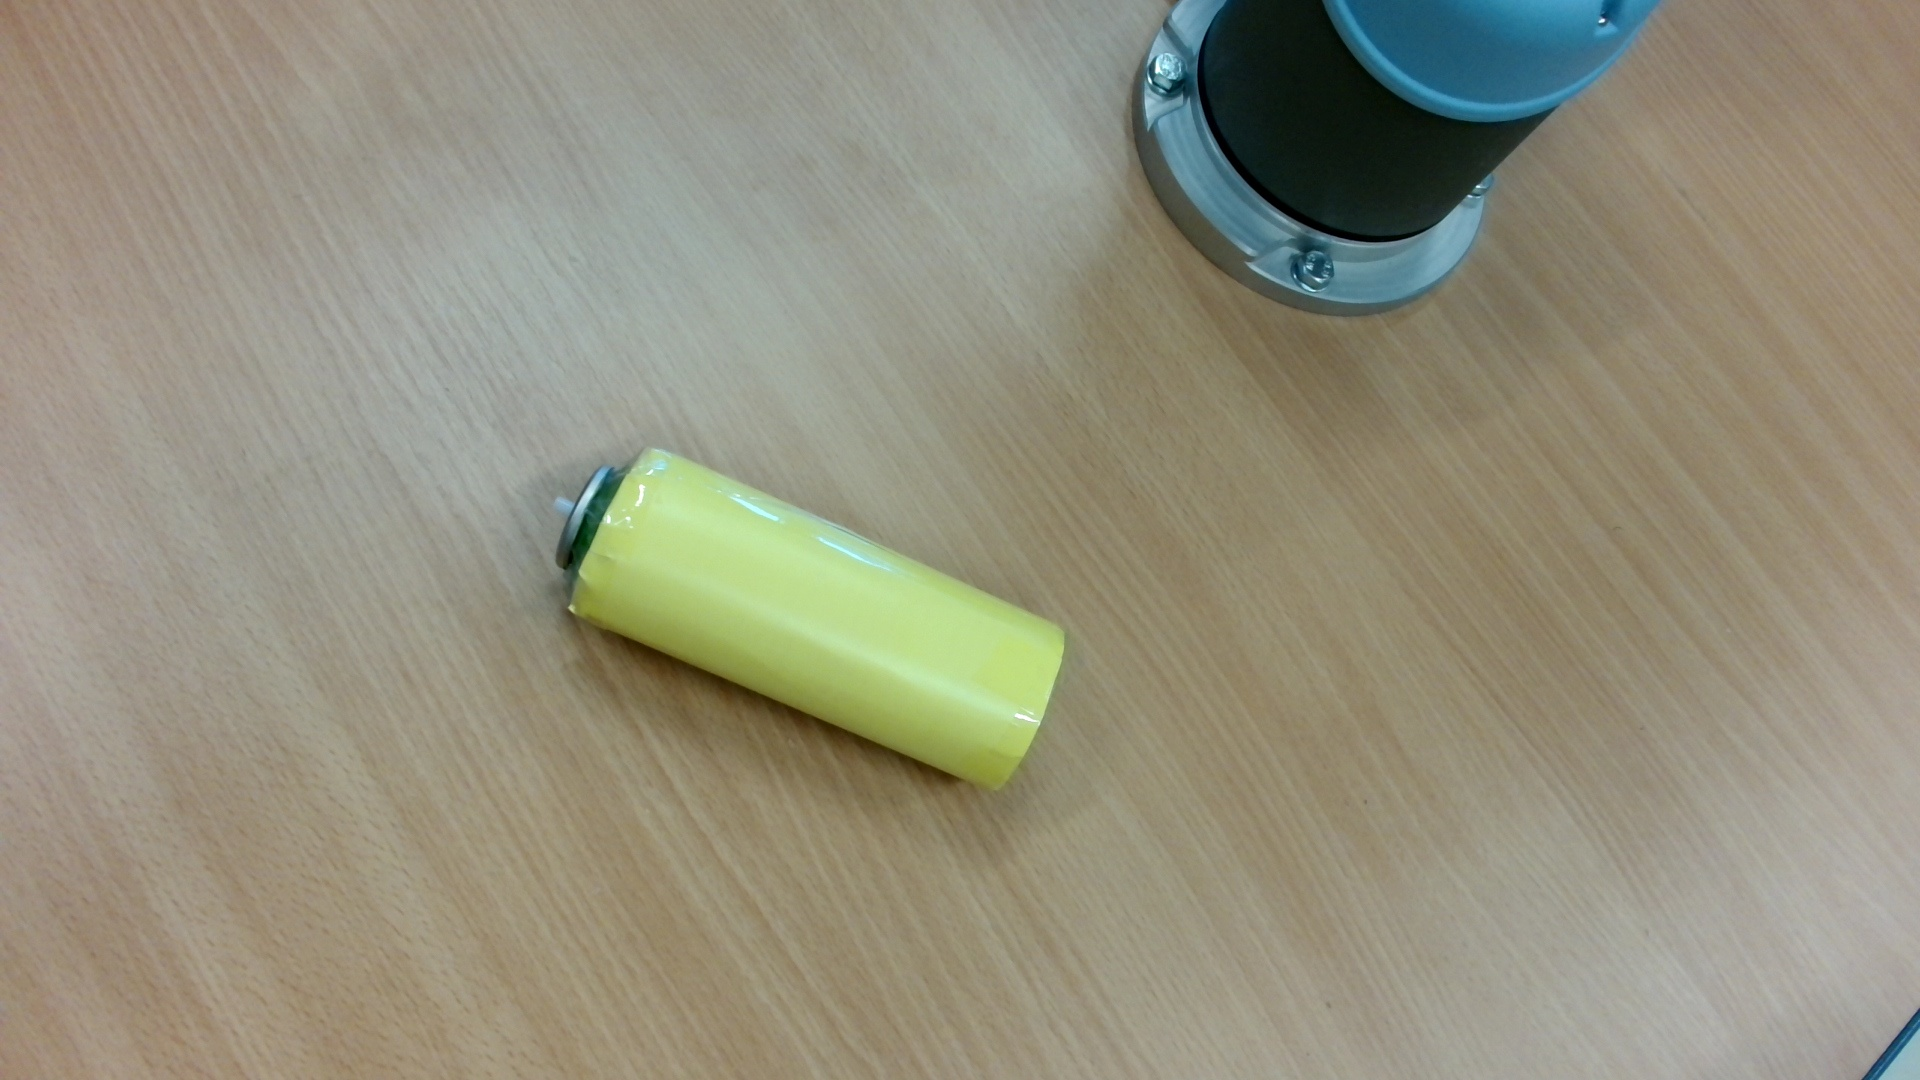Cylinder: (531, 436, 1092, 808)
